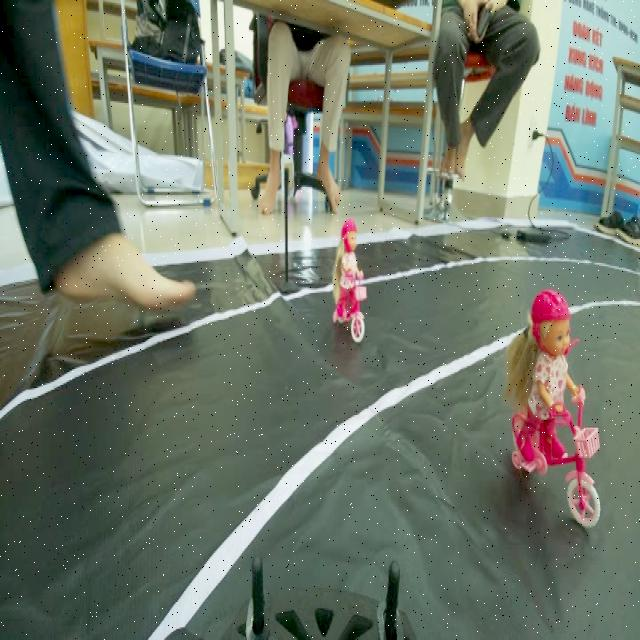pedestrian: (511, 266, 605, 534), (323, 205, 376, 351)
